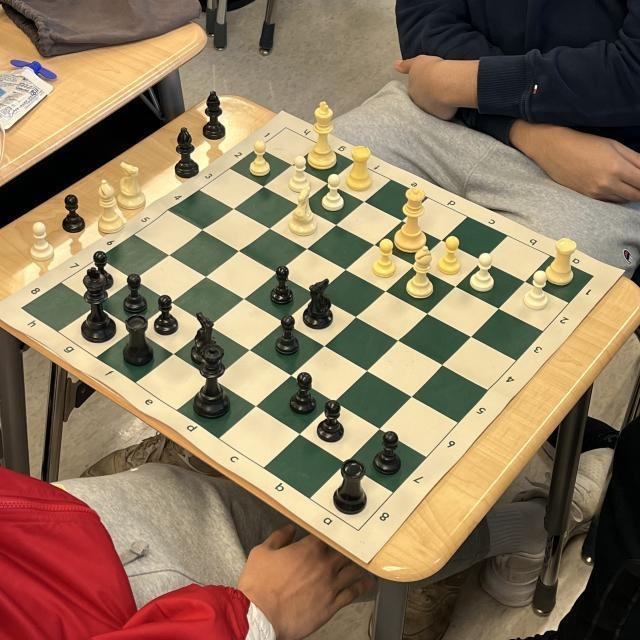black-bishop: (172, 127, 201, 179), (204, 88, 224, 140)
black-king: (79, 268, 117, 343)
black-knight: (303, 276, 334, 330), (190, 312, 218, 368)
black-pawn: (369, 428, 402, 478), (268, 255, 291, 313), (273, 314, 303, 357), (289, 371, 317, 415), (315, 400, 344, 442), (87, 251, 113, 291), (61, 194, 87, 233), (123, 272, 145, 316), (155, 292, 177, 335)
black-queen: (196, 343, 227, 421)
black-rook: (332, 458, 367, 517), (122, 317, 154, 368)
white-bishop: (96, 177, 123, 235), (407, 246, 434, 298)
white-king: (308, 99, 338, 169)
white-knight: (116, 160, 147, 209), (289, 188, 319, 238)
white-pawn: (523, 266, 549, 311), (469, 251, 495, 293), (437, 235, 463, 276), (373, 236, 397, 280), (320, 170, 344, 213), (30, 220, 54, 262), (288, 156, 311, 192), (249, 139, 270, 178)
white-queen: (393, 187, 428, 253)
white-rook: (545, 236, 577, 288), (346, 144, 372, 192)
